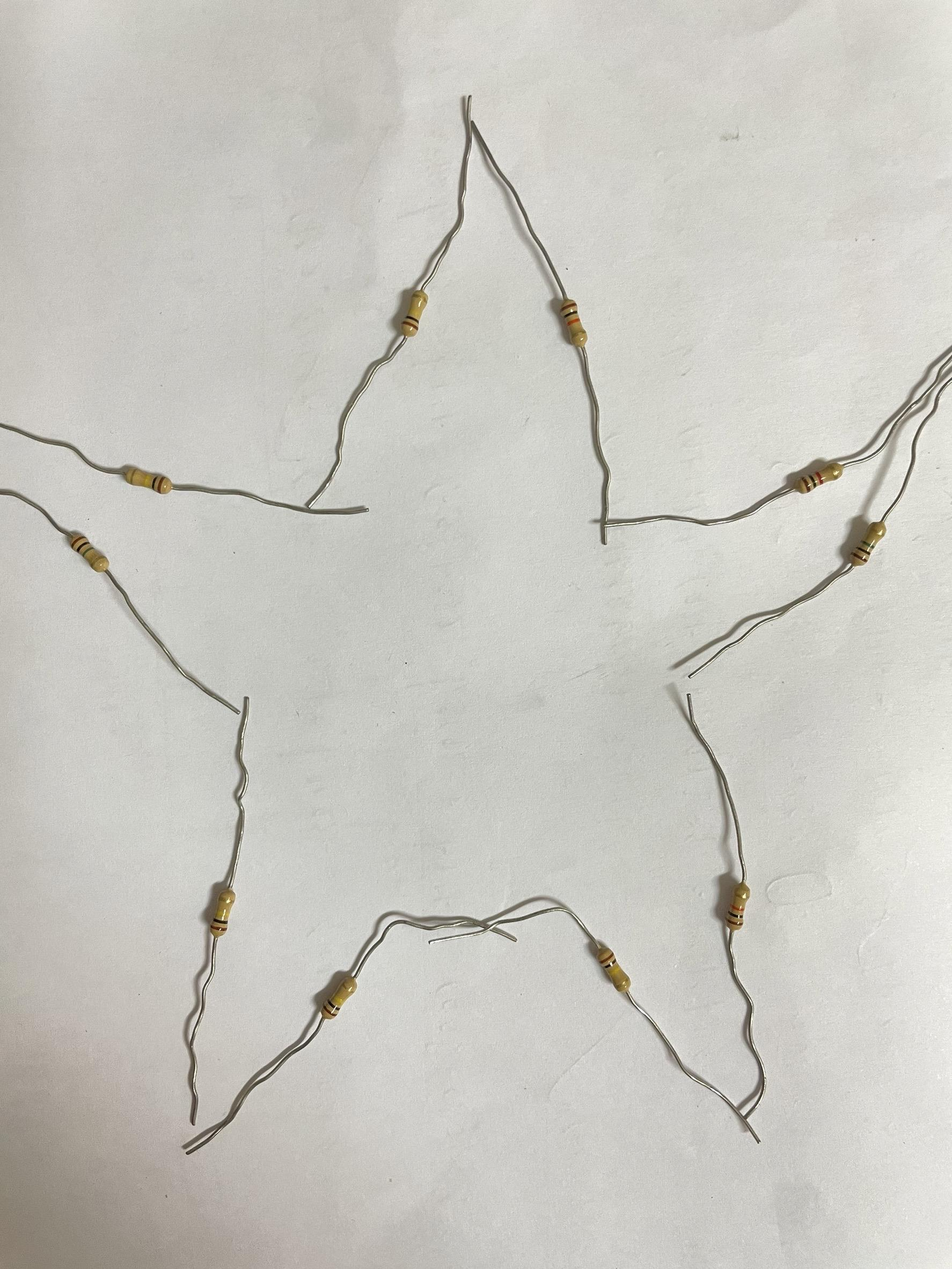resistor: (580, 934, 642, 997), (59, 524, 120, 571), (553, 286, 589, 356), (783, 453, 843, 494), (848, 512, 891, 567), (712, 871, 746, 939), (116, 460, 172, 496), (322, 963, 358, 1011), (392, 288, 422, 344), (202, 873, 231, 930)
